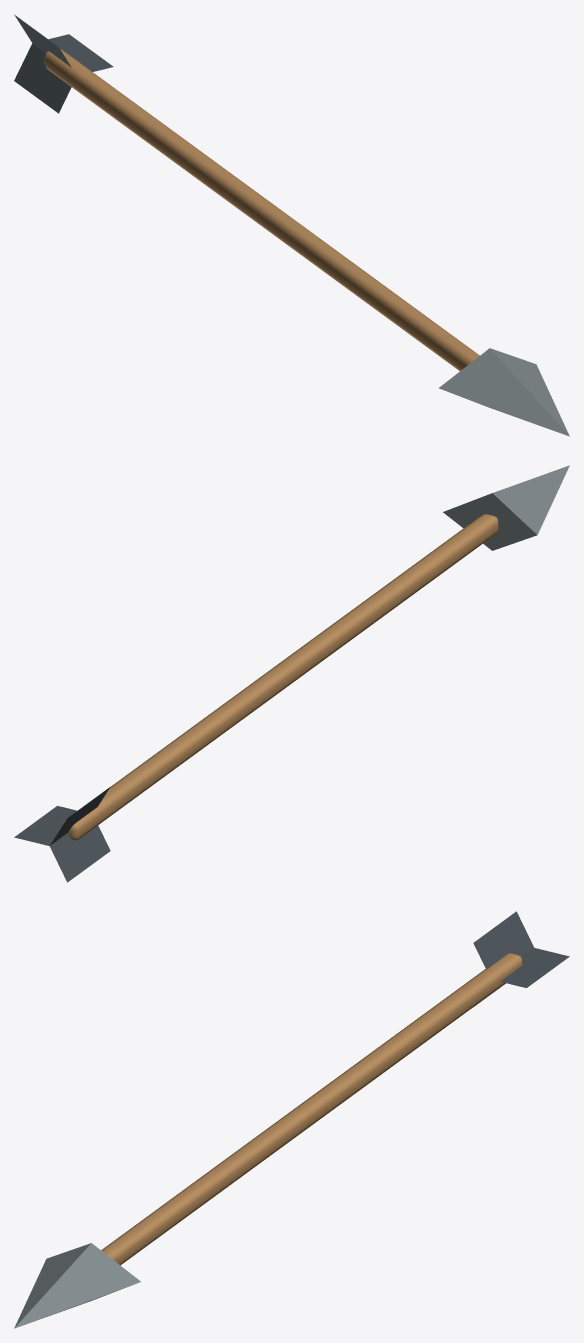
The model's file is arrow.glb.
3 renders of one model, top to bottom at view 1: azimuth 30°, elevation 25°; view 2: azimuth 150°, elevation 25°; view 3: azimuth 330°, elevation 25°, orthographic. The views are drawn at different scales.
Parts seen in each view (by area): view 1: AssetBatch_7; view 2: AssetBatch_7; view 3: AssetBatch_7.
Part boxes in pixels (x1,y1,x2,y2): AssetBatch_7: (14,14,569,436); AssetBatch_7: (14,465,569,882); AssetBatch_7: (14,911,569,1328).
Size of the model in its own units: 0.24 by 0.1559 by 2.28.
